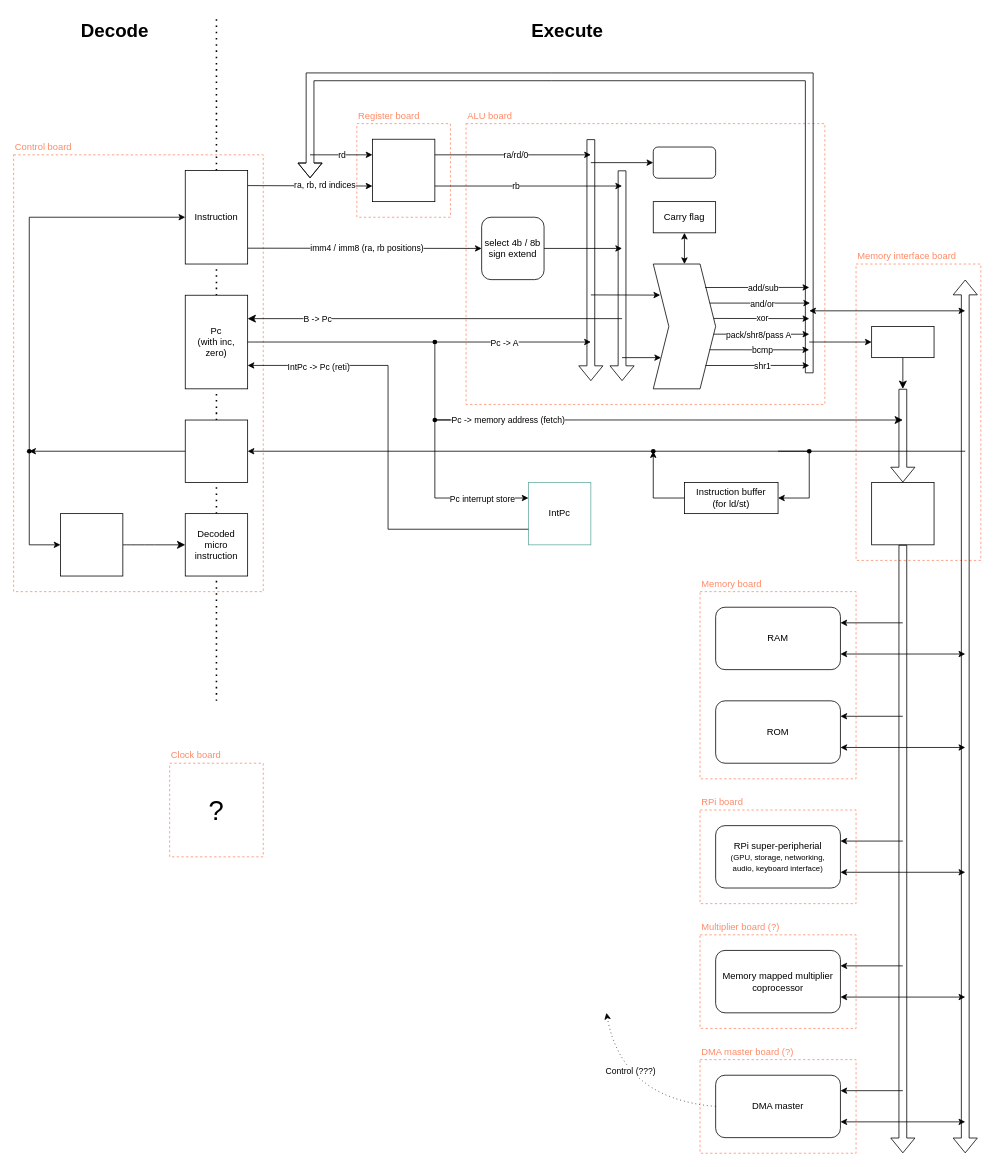
Some shapes in this 994 by 1167 pixel diagram are drawn without their labels. The shapes that lost their labels are listed below. From the top down, each one's box as (x1, y1, x2, y2) in pixels, then its label:
(372, 138, 435, 202): r0..r15
(652, 146, 716, 178): zero detect
(652, 263, 716, 389): ALU
(871, 326, 934, 358): MAR
(184, 419, 248, 482): Next instruction
(871, 482, 934, 545): MMU
(60, 513, 123, 576): Microcode ROM
